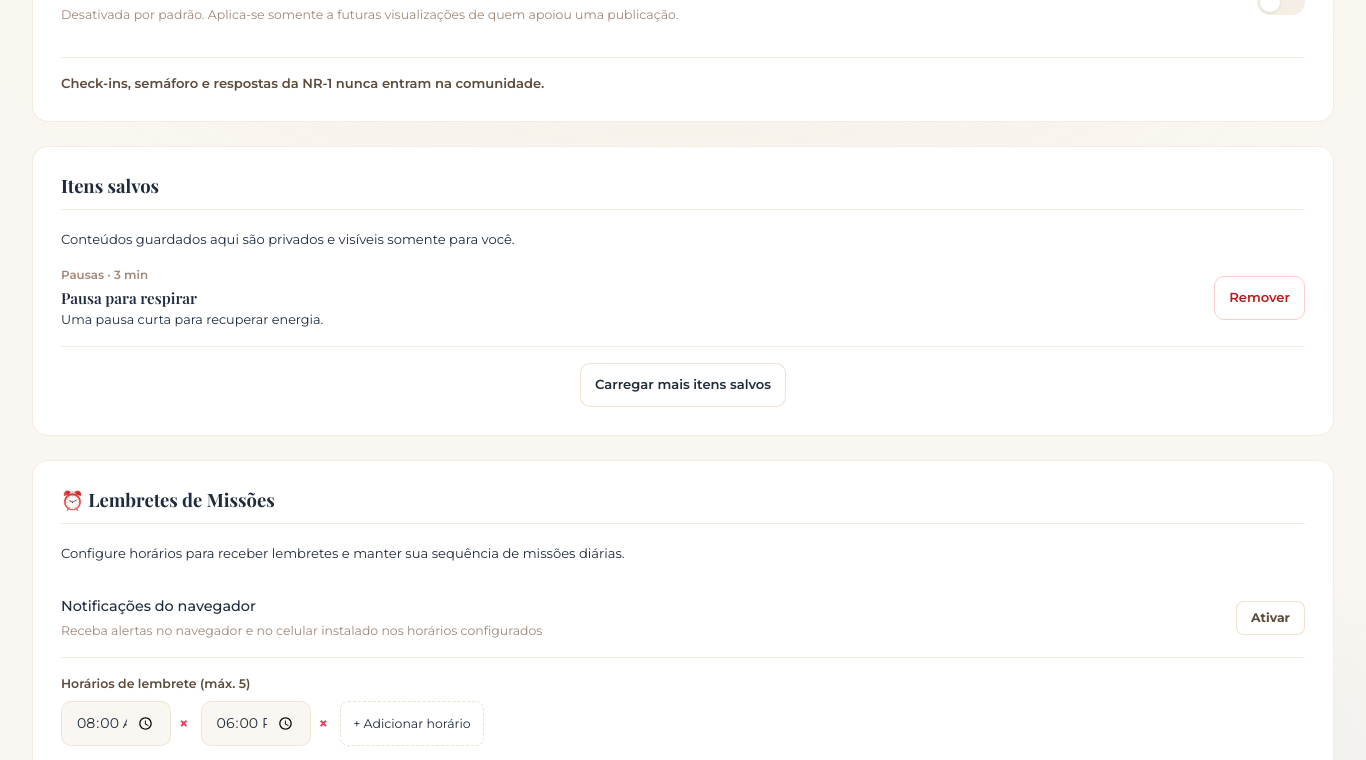
Test: profile saved community items › purges all private saved state after a manual load-more receives 403
(page scrolled)
Click the button "Carregar mais itens salvos" at (683, 385), box [580, 363, 786, 407]
(page scrolled)
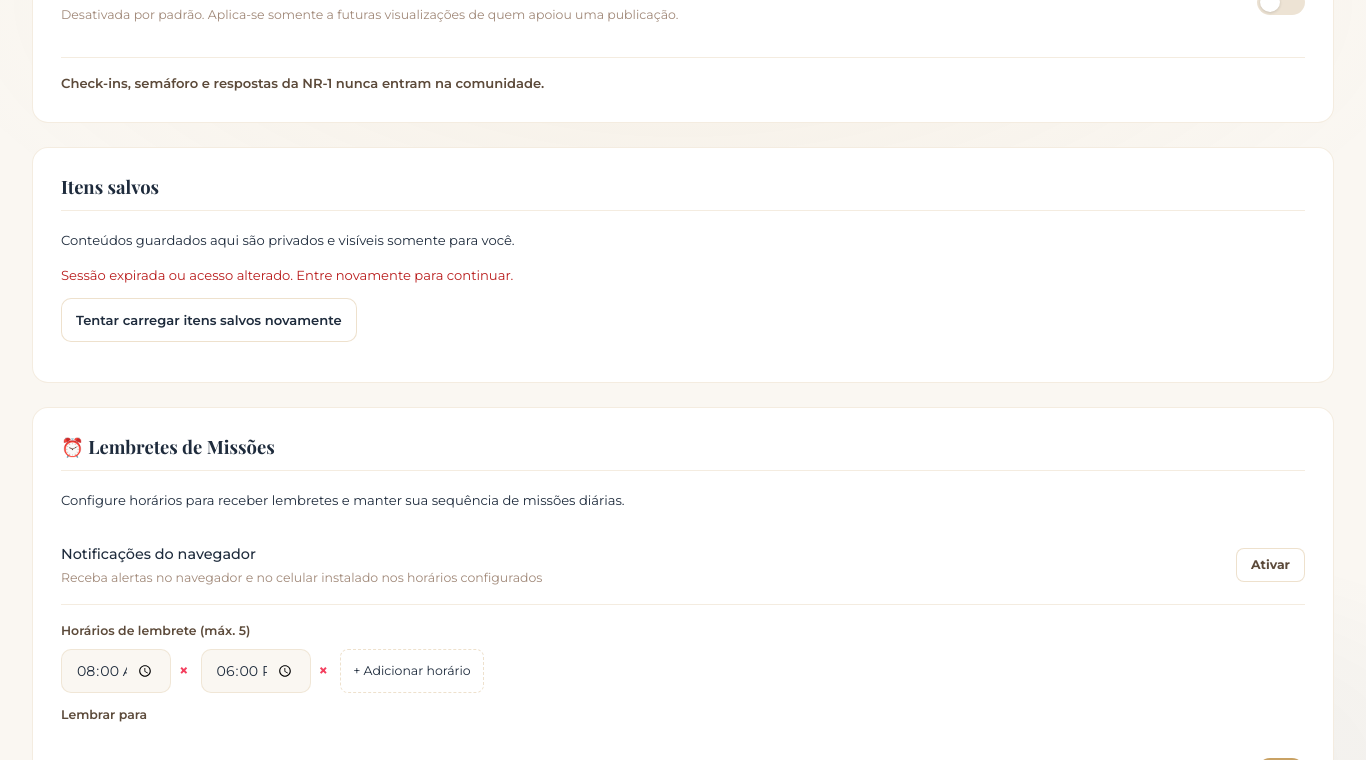
Now the heading "Pausa para respirar" is gone
Now the button "Carregar mais itens salvos" is gone
Now the message shows "Sessão expirada ou acesso alterado. Entre novamente", box [61, 267, 513, 283]
